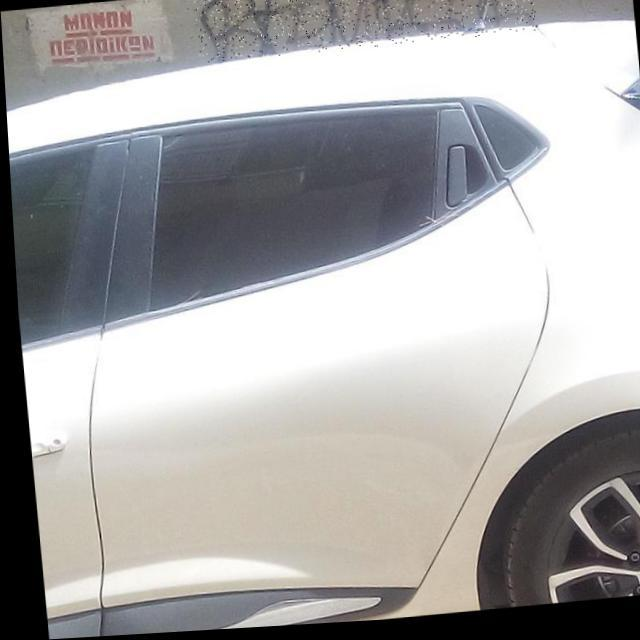-: (193, 0, 536, 65)
